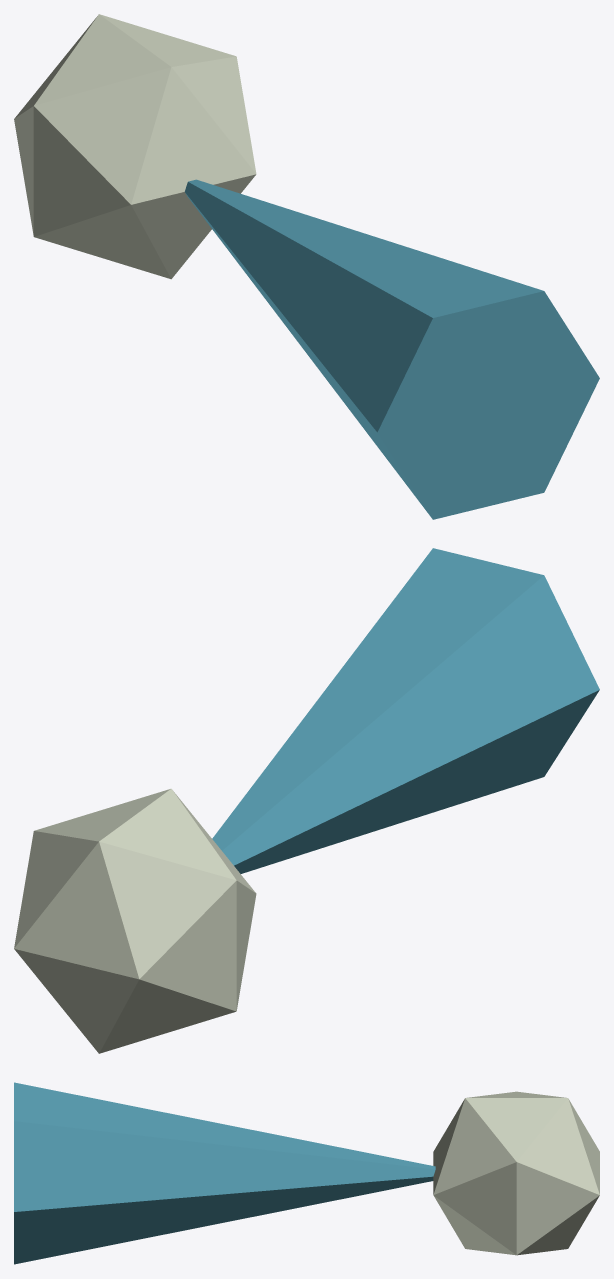
The model's file is bolt.glb.
3 renders of one model, top to bottom at view 1: azimuth 30°, elevation 25°; view 2: azimuth 150°, elevation 25°; view 3: azimuth 270°, elevation 25°, orthographic. The views are drawn at different scales.
Parts seen in each view (by area): view 1: Tail, Core; view 2: Tail, Core; view 3: Tail, Core.
Part boxes in pixels (left/top/right/bottom): Tail: left=184, top=179, right=599, bottom=519; Core: left=14, top=14, right=256, bottom=279; Tail: left=212, top=548, right=599, bottom=873; Core: left=14, top=788, right=256, bottom=1053; Tail: left=14, top=1082, right=435, bottom=1264; Core: left=433, top=1091, right=599, bottom=1255.
Size of the model in its own units: 0.28 by 0.2552 by 0.8976.
